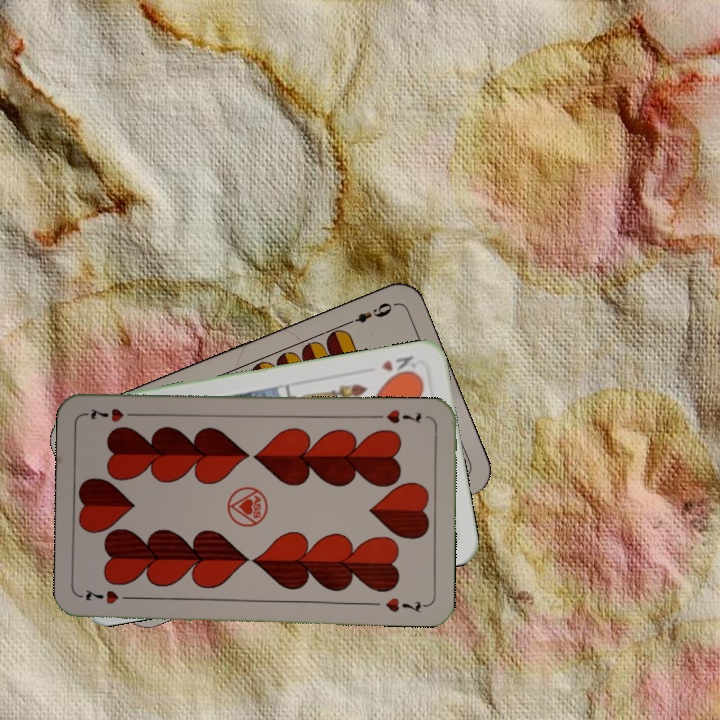E9: (341, 298, 395, 328)
H7: (82, 585, 138, 607), (383, 405, 424, 426)
HK: (377, 351, 421, 380)
